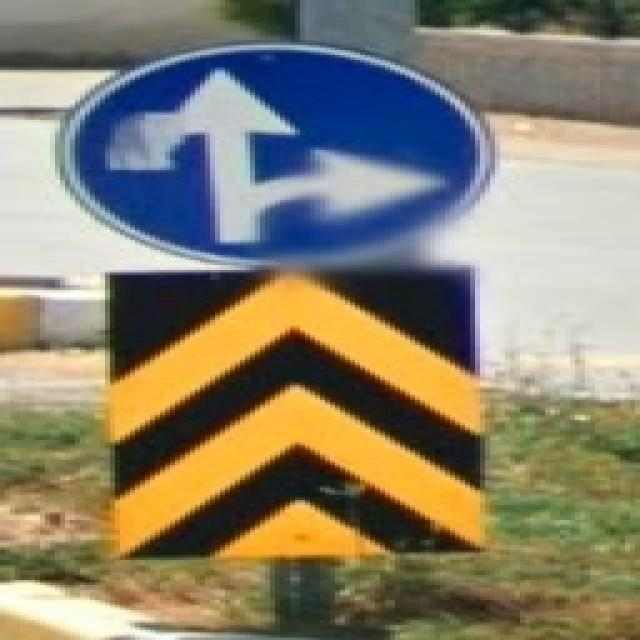Straight or Right: (39, 46, 509, 258)
